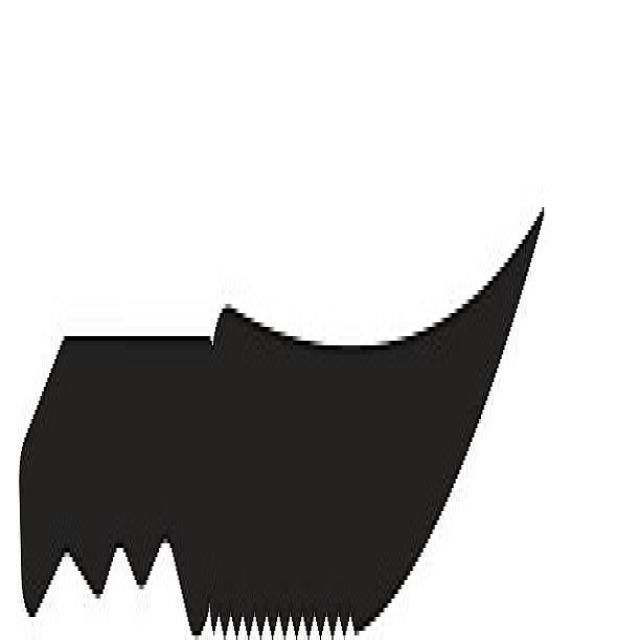knife: (12, 197, 549, 640)
